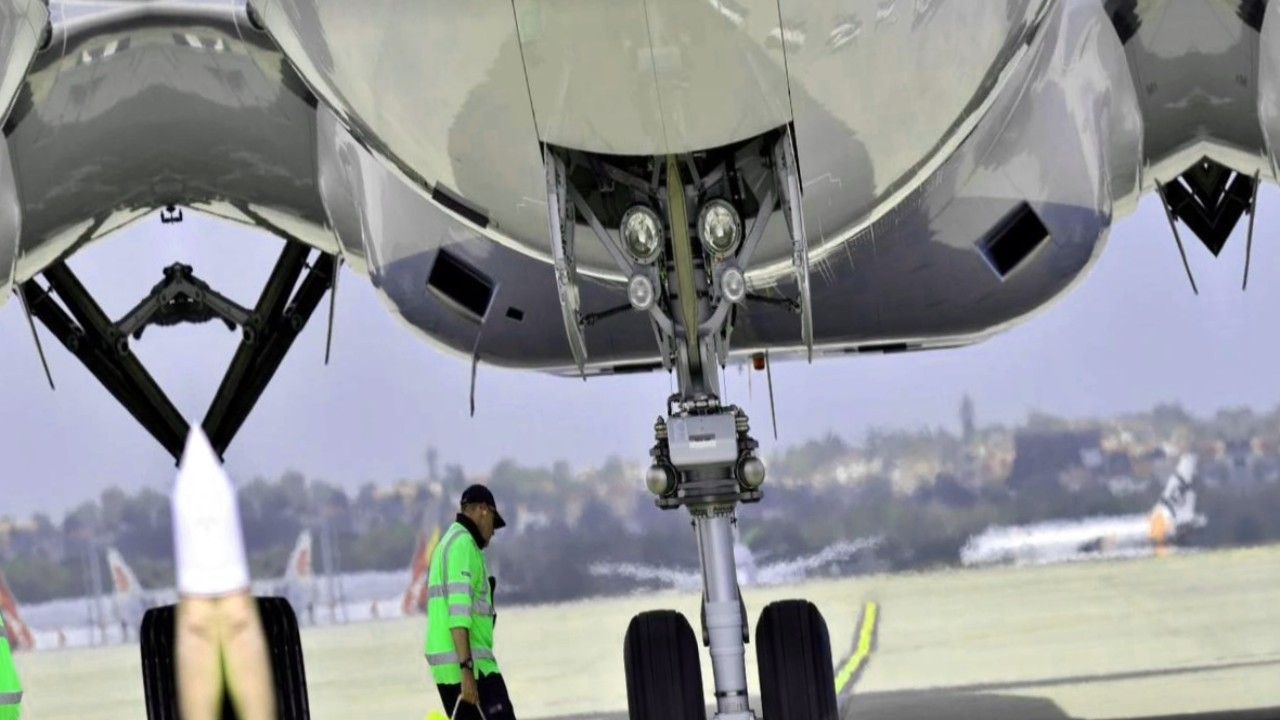wheel: (750, 595, 858, 720), (616, 606, 725, 720), (257, 594, 320, 720), (133, 605, 196, 720)
